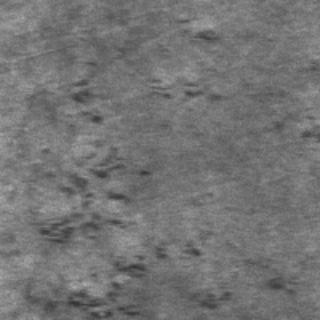rolled pit: (29, 42, 142, 318), (150, 230, 254, 310), (143, 60, 227, 104)
